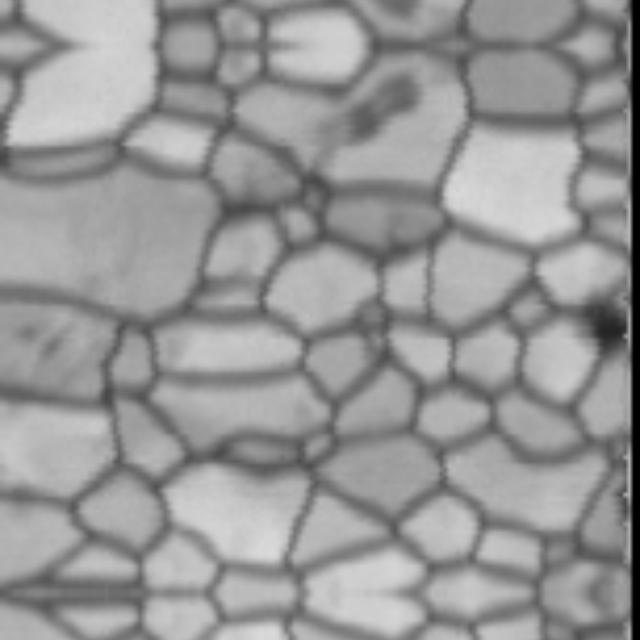good_void: (334, 60, 422, 169), (574, 279, 629, 368), (30, 326, 68, 373), (18, 322, 42, 350)
